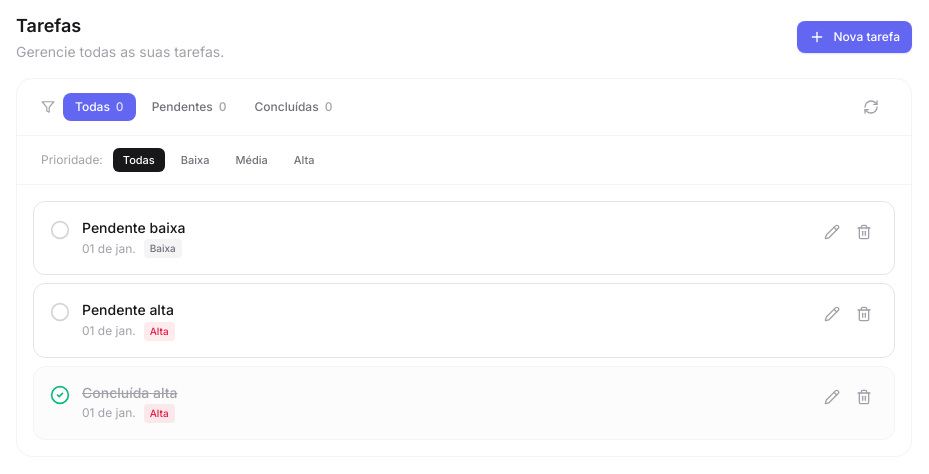
it: TasksPage — combinação de statusFilter + priorityFilter › filtra só por priority quando status está em 'Todas'
Click the button "Alta" at (304, 160), box [284,148,324,172]
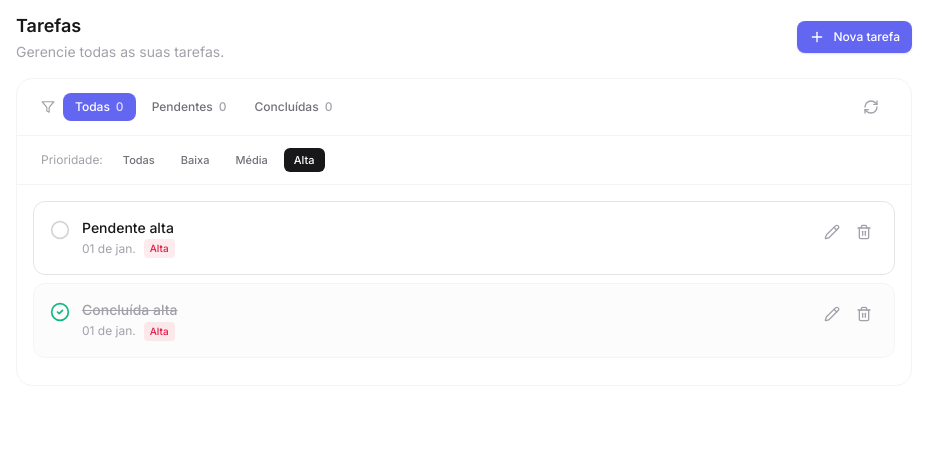
Check: the text "Pendente alta" is shown, box [82,219,174,236]
Check: the text "Pendente baixa" is gone
